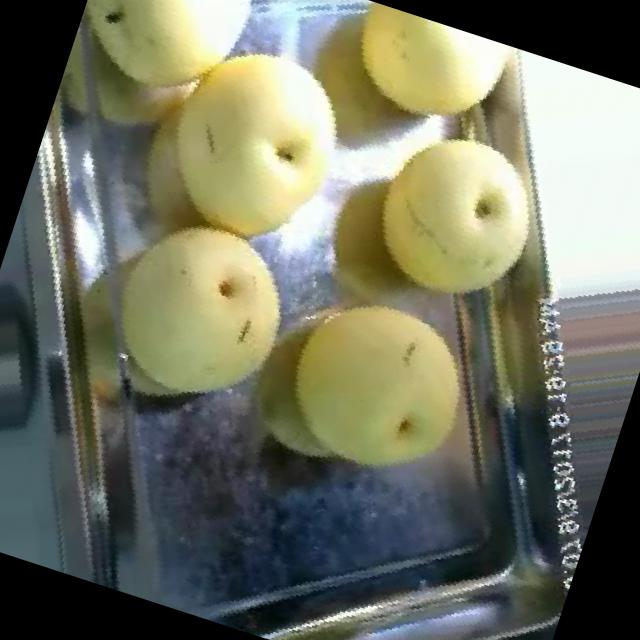Fruit: (230, 247, 528, 543), (108, 0, 393, 285), (61, 174, 340, 453), (330, 86, 590, 347), (300, 0, 536, 172)
